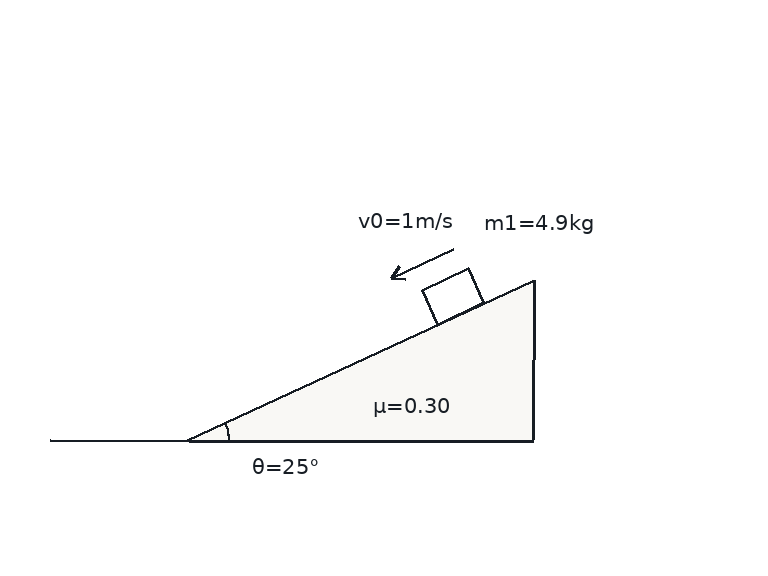block: (420, 267, 486, 326)
ramp: (187, 278, 534, 442)
